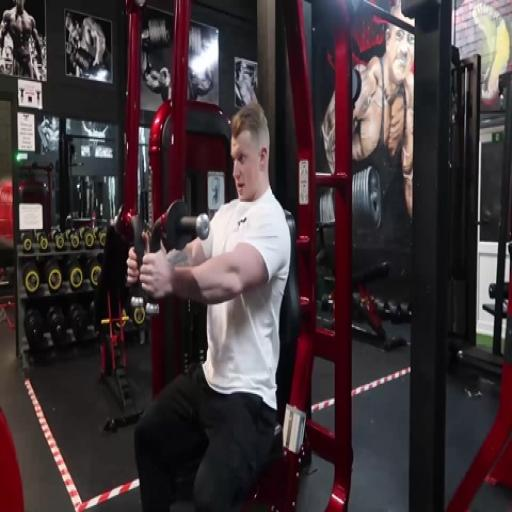exercise: (124, 100, 294, 510)
